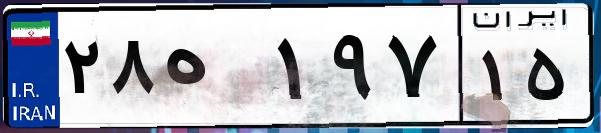1: (270, 28, 330, 110), (475, 38, 525, 113)
2: (57, 26, 110, 100)
5: (525, 38, 570, 115)
7: (385, 28, 445, 110)
8: (110, 28, 158, 98)
9: (330, 28, 385, 110)
ه: (158, 20, 270, 120)
